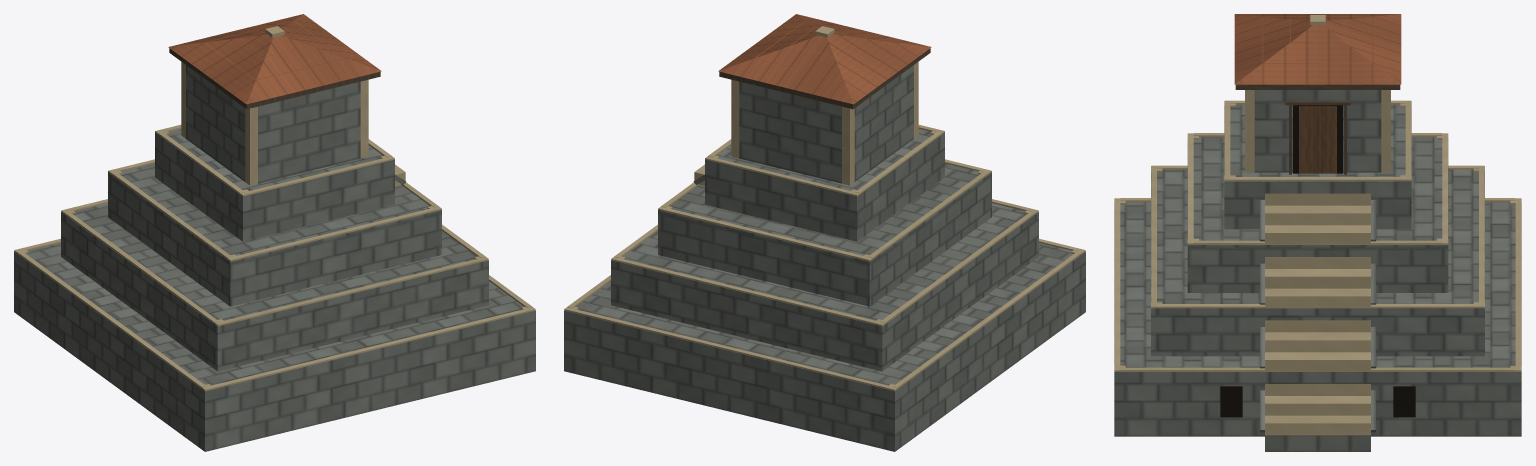
The model's file is temple.glb.
3 renders of one model, left to right at view 1: azimuth 30°, elevation 25°; view 2: azimuth 150°, elevation 25°; view 3: azimuth 270°, elevation 25°, orthographic. The views are drawn at different scales.
Visible parts, largest first — view 1: temple; view 2: temple; view 3: temple.
Boxes of the visible parts, x1,y1,x2,y2 form: temple: (14,14,535,451); temple: (564,14,1085,451); temple: (1114,14,1521,451).
Bounding box in the file's own units: 2.18 × 1.8 × 2.
Materials: 1 (1 with a texture image).
